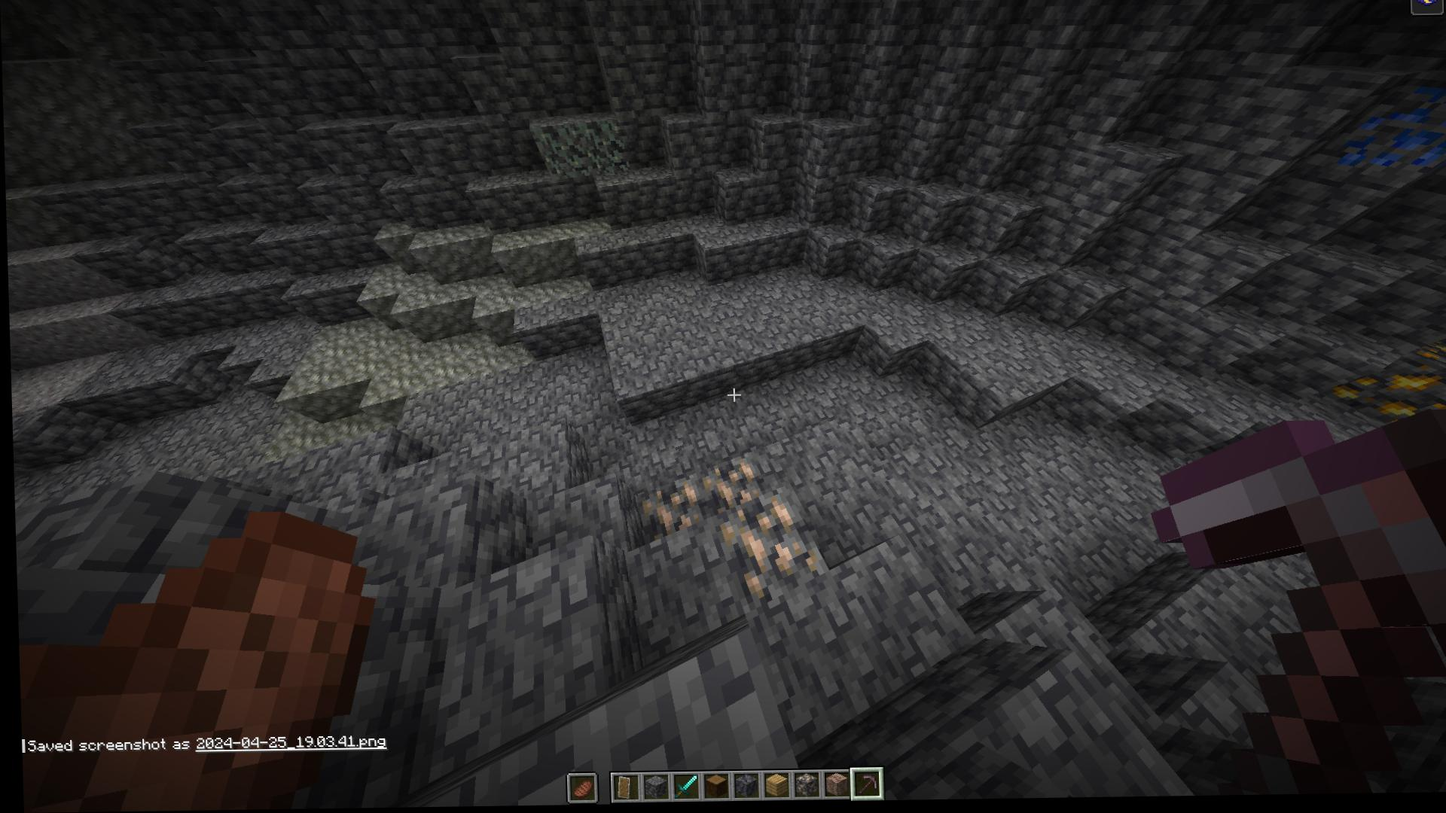gold ore: (1334, 341, 1446, 430)
iron ore: (715, 499, 818, 602), (632, 480, 705, 539), (699, 459, 758, 516)
